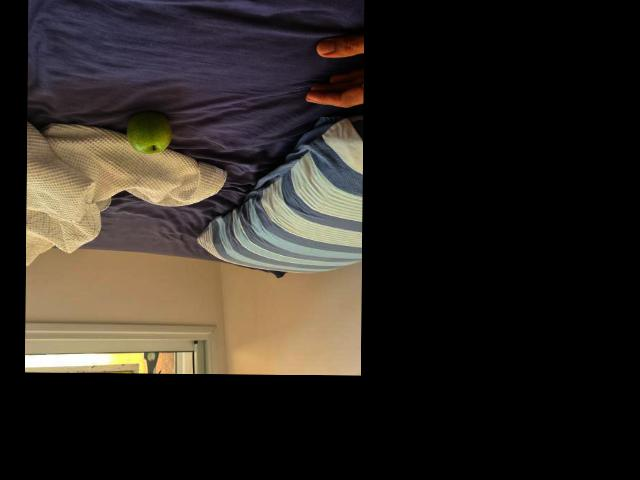apple: (125, 111, 169, 157)
